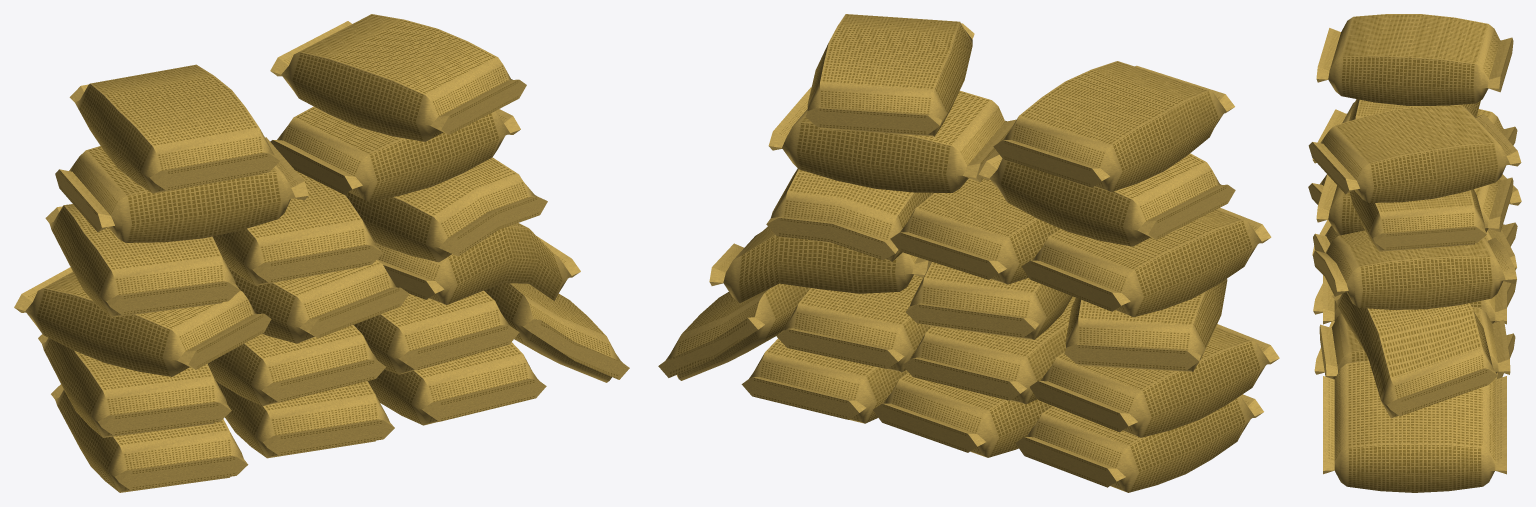
File: wall.fbx
3 renders of one model, left to right at view 1: azimuth 30°, elevation 25°; view 2: azimuth 150°, elevation 25°; view 3: azimuth 270°, elevation 25°, orthographic. The views are drawn at different scales.
Visible parts, largest first — view 1: 立方体.017, 立方体.016, 立方体.002, 立方体.015, 立方体.014, 立方体.012, 立方体.011, 立方体.004, 立方体.013, 立方体.003, 立方体.008, 立方体.005 (+5 smaller); view 2: 立方体.016, 立方体.017, 立方体.012, 立方体.014, 立方体.004, 立方体.015, 立方体.003, 立方体.013, 立方体.008, 立方体.002, 立方体.006, 立方体.011 (+5 smaller); view 3: 立方体.007, 立方体.017, 立方体.016, 立方体.008, 立方体.011, 立方体.014, 立方体.006, 立方体.013, 立方体.005, 立方体.015, 立方体.012, 立方体.010 (+4 smaller).
Part boxes in pixels (box(x1,y1,x2,y2)): 立方体.017: box(270, 14, 526, 141); 立方体.016: box(69, 64, 279, 193); 立方体.002: box(14, 267, 271, 376); 立方体.015: box(55, 137, 308, 242); 立方体.014: box(270, 106, 520, 201); 立方体.012: box(45, 204, 239, 317); 立方体.011: box(345, 157, 547, 262); 立方体.004: box(38, 334, 231, 437); 立方体.013: box(212, 170, 382, 285); 立方体.003: box(51, 384, 248, 492); 立方体.008: box(375, 223, 580, 304); 立方体.005: box(208, 325, 385, 406); 立方体.016: box(993, 61, 1234, 192); 立方体.017: box(805, 14, 974, 136); 立方体.012: box(1021, 207, 1271, 317); 立方体.014: box(768, 87, 1016, 192); 立方体.004: box(1030, 324, 1279, 437); 立方体.015: box(979, 153, 1235, 246); 立方体.003: box(1015, 394, 1263, 492); 立方体.013: box(890, 178, 1060, 284); 立方体.008: box(709, 226, 931, 303); 立方体.002: box(1064, 279, 1227, 371); 立方体.006: box(776, 274, 931, 372); 立方体.011: box(766, 168, 933, 261); 立方体.007: box(1323, 360, 1506, 492); 立方体.017: box(1308, 105, 1521, 202); 立方体.016: box(1316, 14, 1513, 105); 立方体.008: box(1332, 292, 1497, 418); 立方体.011: box(1313, 230, 1516, 309); 立方体.014: box(1349, 189, 1486, 251); 立方体.006: box(1319, 307, 1510, 377); 立方体.013: box(1316, 174, 1513, 235); 立方体.005: box(1323, 275, 1506, 324); 立方体.015: box(1349, 99, 1480, 120); 立方体.012: box(1312, 102, 1517, 163); 立方体.010: box(1313, 225, 1516, 269).
Bounding box in the file's own units: 1109 × 710 × 464.
Materials: 1 (1 with a texture image).
